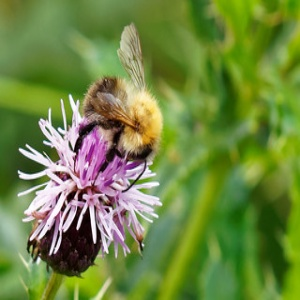bee: (83, 24, 164, 194)
